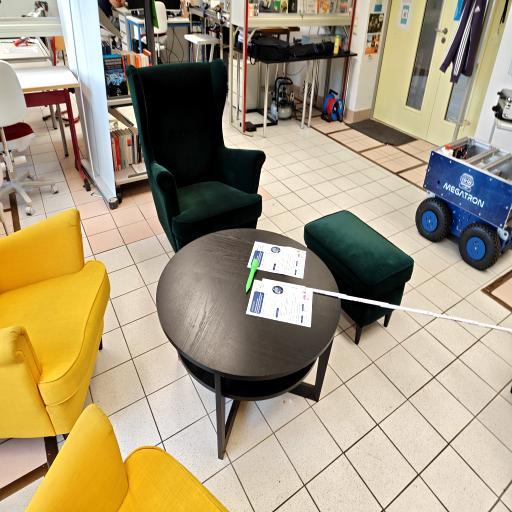Probe-Detection: (246, 258, 258, 292)
